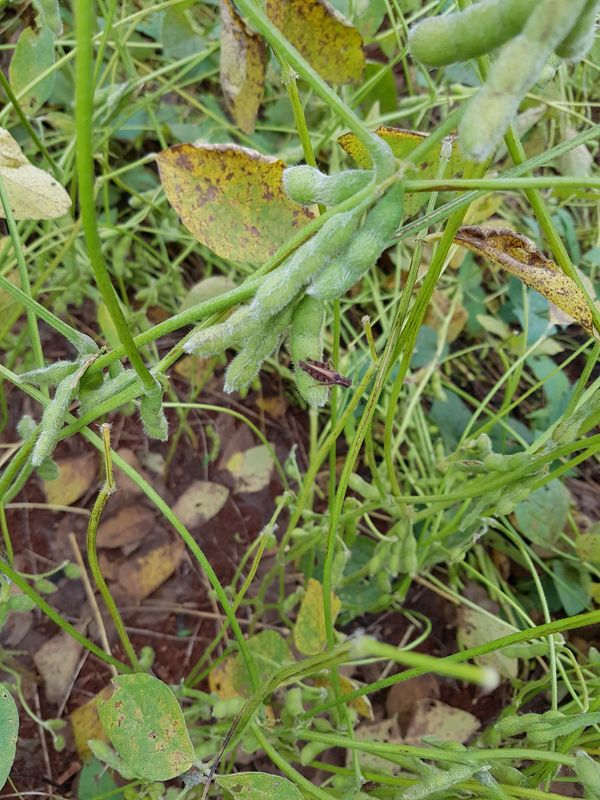Rhammatocerus_schistocercoides: (284, 342, 365, 413)
